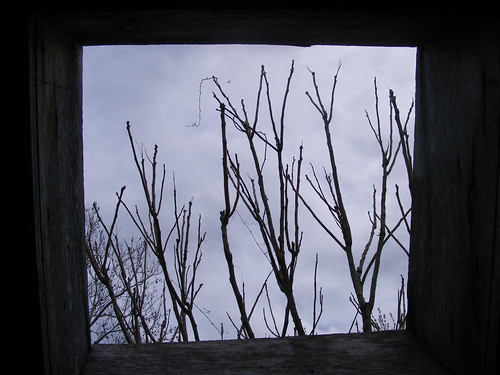vegetation: (80, 43, 410, 332)
